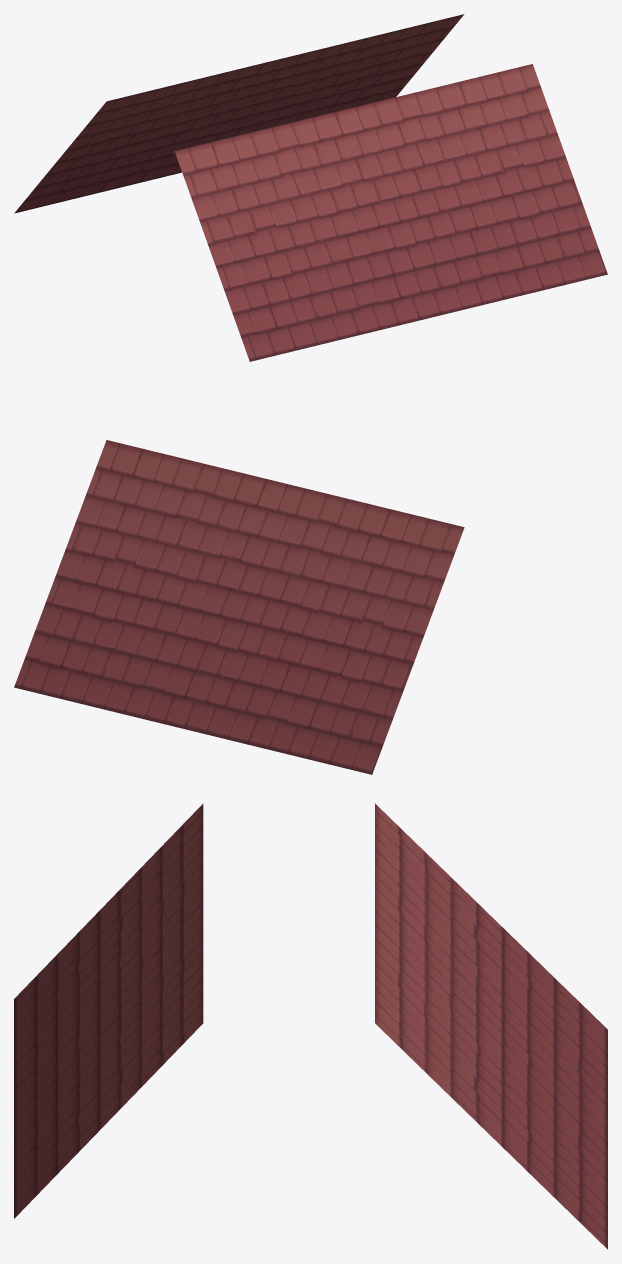
File: scene_luoliante_yjsxh_03.FBX
The picture shows the model from 3 angles, top to bottom: view 1: azimuth 30°, elevation 25°; view 2: azimuth 150°, elevation 25°; view 3: azimuth 270°, elevation 25°; orthographic projection. The views are drawn at different scales.
Parts seen in each view (by area): view 1: sence_luoliante_yjsxh_03; view 2: sence_luoliante_yjsxh_03; view 3: sence_luoliante_yjsxh_03.
Boxes of the visible parts, <box> form: sence_luoliante_yjsxh_03: <box>14,14,607,361</box>; sence_luoliante_yjsxh_03: <box>14,440,464,774</box>; sence_luoliante_yjsxh_03: <box>14,803,607,1249</box>.
Bounding box in the file's own units: 301 × 145 × 344.
